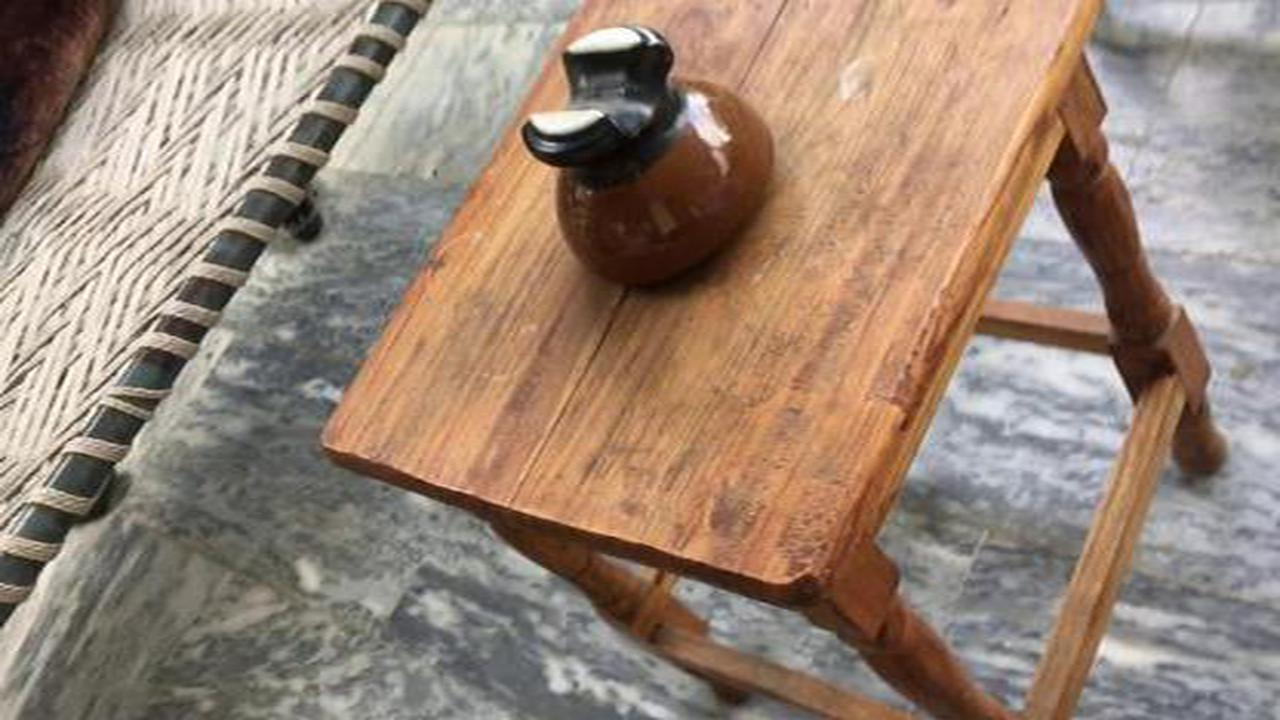insulator_pin: (508, 18, 788, 309)
